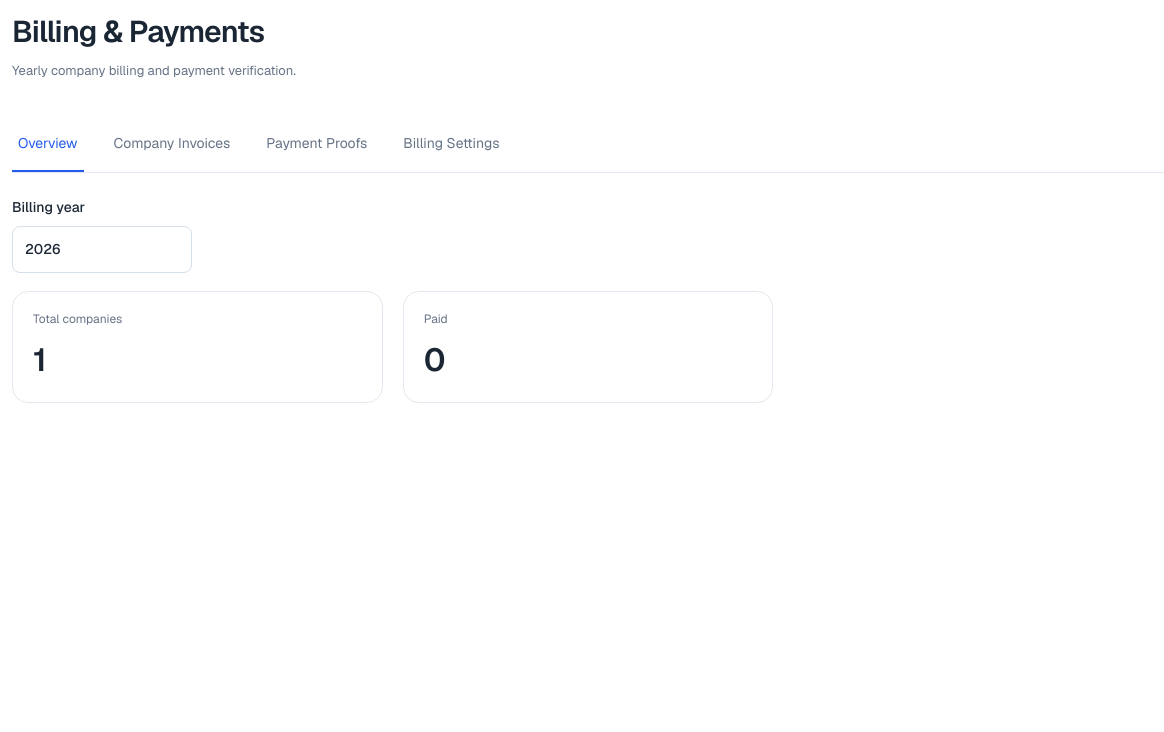
Scenario: requires a rejection reason and refreshes the verification state
Expected: the heading "Total companies" is shown, [33, 310, 122, 326]
Click the tab "Payment Proofs" at (317,144), box [260, 116, 373, 172]
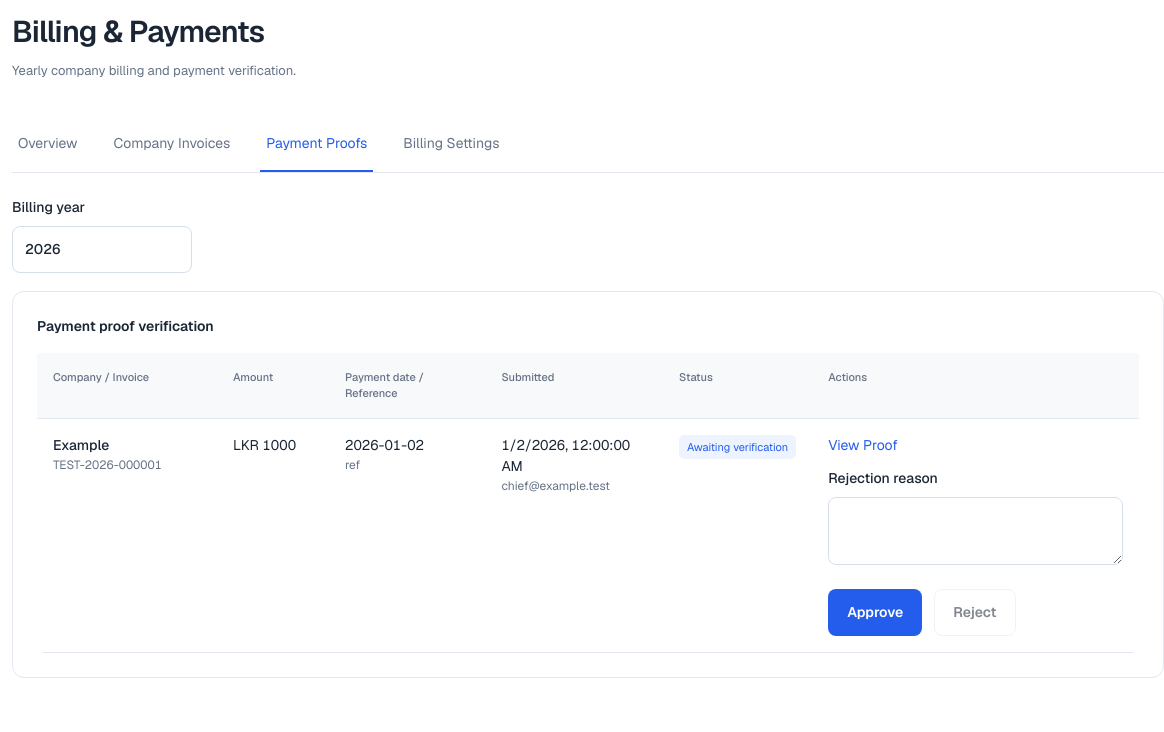
Now the button "Reject" is disabled, box [934, 588, 1016, 636]
Type "Wrong reference" into the text box labelled "Rejection reason" at (976,530), box [828, 496, 1123, 564]
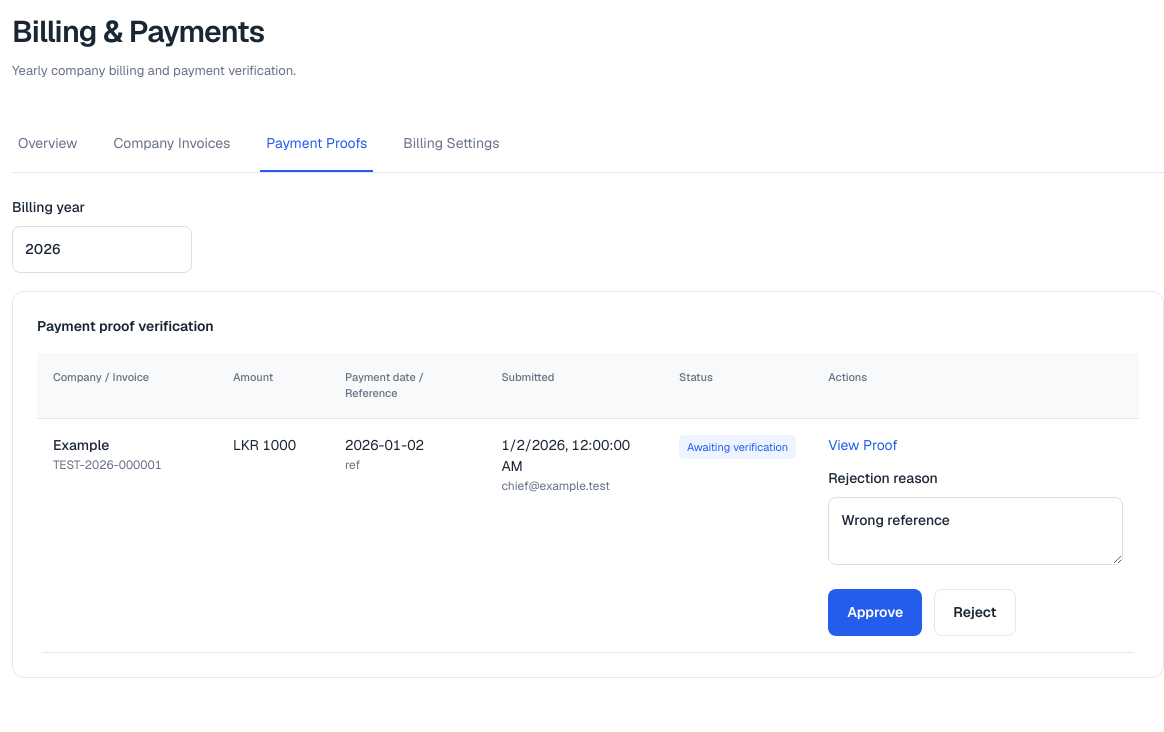
Click the button "Reject" at (975,612), box [934, 588, 1016, 636]
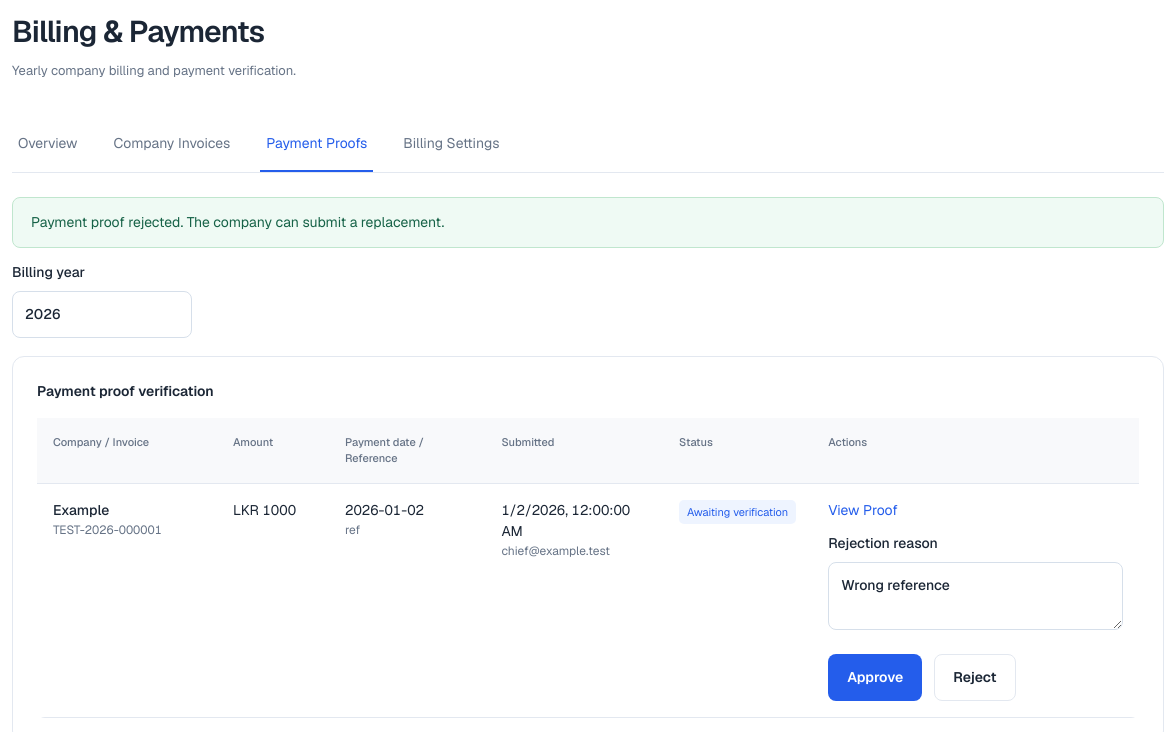
Now the text "Payment proof rejected. The company can submit a replacement." is shown, box [12, 196, 1163, 248]
